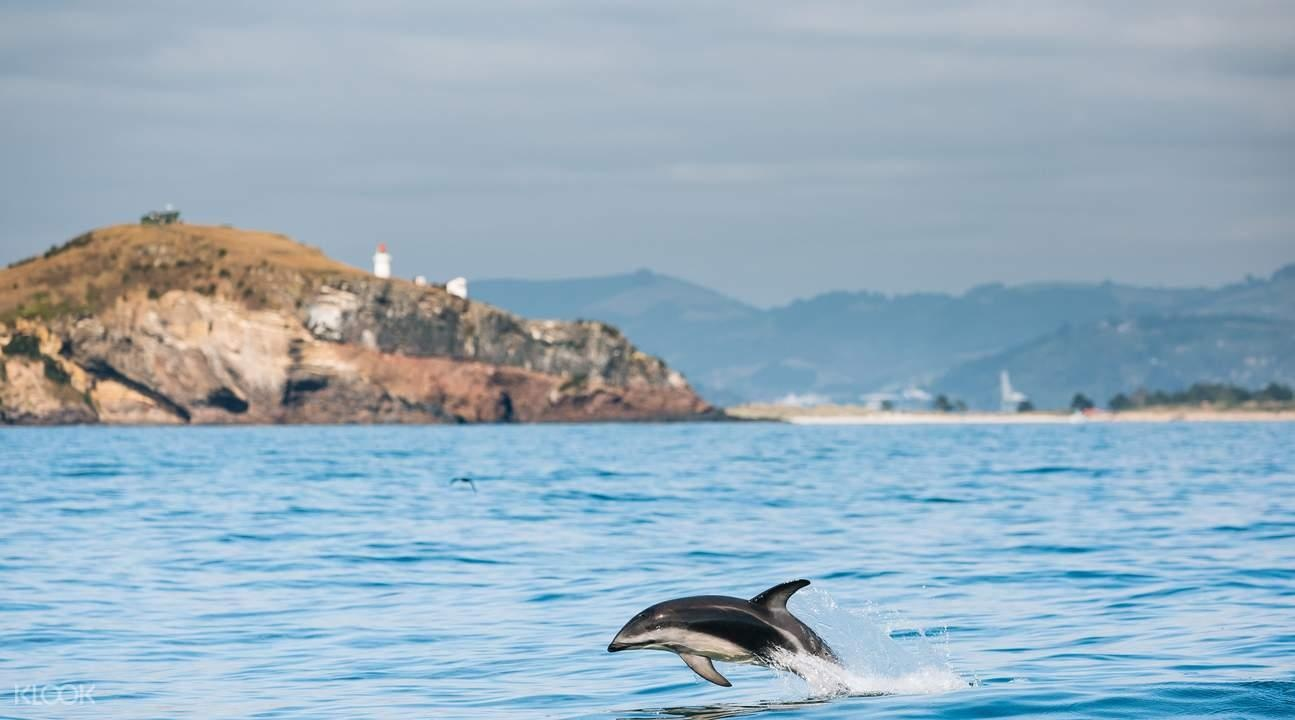fish: (602, 579, 847, 704)
